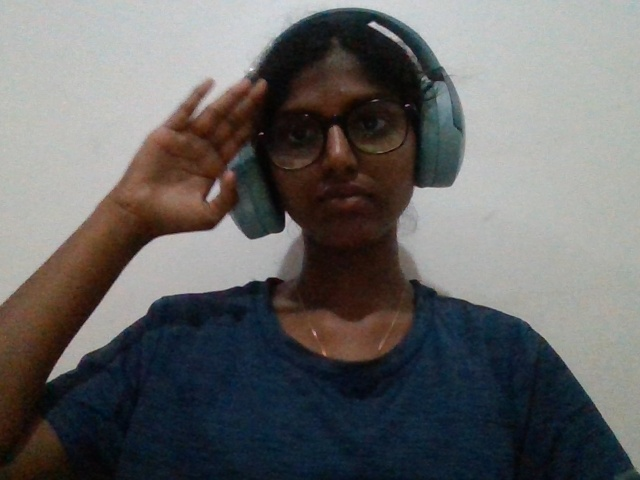Hello: (71, 45, 282, 295)
